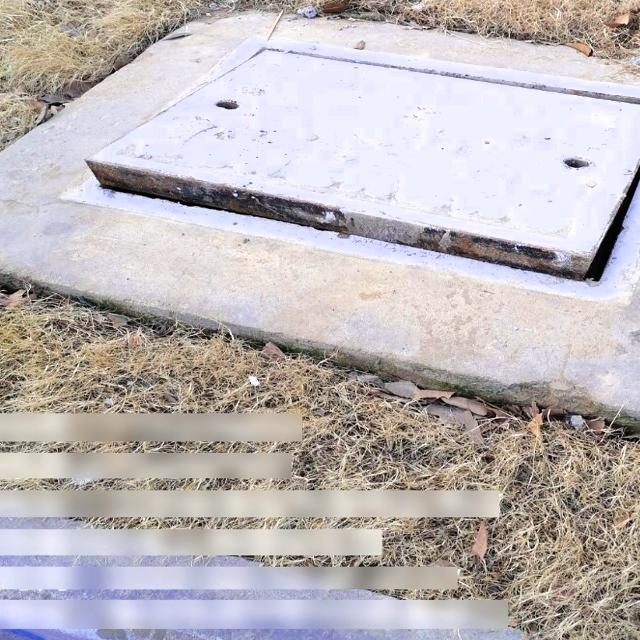uncovered: (50, 37, 640, 301)
